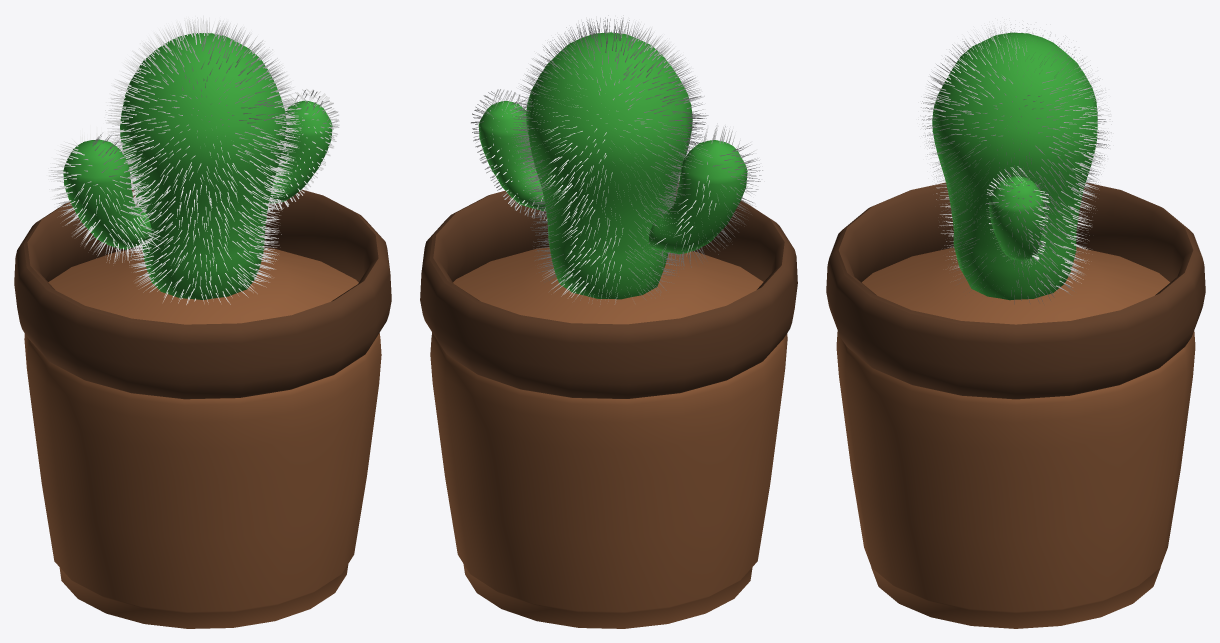
File: cactus_with2.fbx
The picture shows the model from 3 angles, left to right: view 1: azimuth 30°, elevation 25°; view 2: azimuth 150°, elevation 25°; view 3: azimuth 270°, elevation 25°; orthographic projection.
Visible parts, largest first — view 1: pCylinder3, pSphere15, polySurface2, pSphere17, pSphere13; view 2: pCylinder3, pSphere15, polySurface2, pSphere17, pSphere13; view 3: pCylinder3, pSphere15, polySurface2, pSphere13.
Part boxes in pixels (x1,y1,x2,y2): pCylinder3: [14, 183, 391, 628]; pSphere15: [120, 33, 286, 299]; polySurface2: [48, 15, 339, 304]; pSphere17: [63, 139, 151, 249]; pSphere13: [269, 100, 332, 203]; pCylinder3: [420, 183, 797, 628]; pSphere15: [526, 32, 692, 299]; polySurface2: [471, 15, 762, 304]; pSphere17: [649, 140, 747, 254]; pSphere13: [478, 101, 545, 210]; pCylinder3: [826, 182, 1205, 628]; pSphere15: [932, 32, 1097, 300]; polySurface2: [918, 23, 1112, 304]; pSphere13: [989, 176, 1043, 261].
Bounding box in the file's own units: 17.19 × 27.24 × 17.19.
